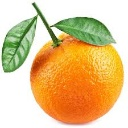orange: (26, 19, 125, 126)
